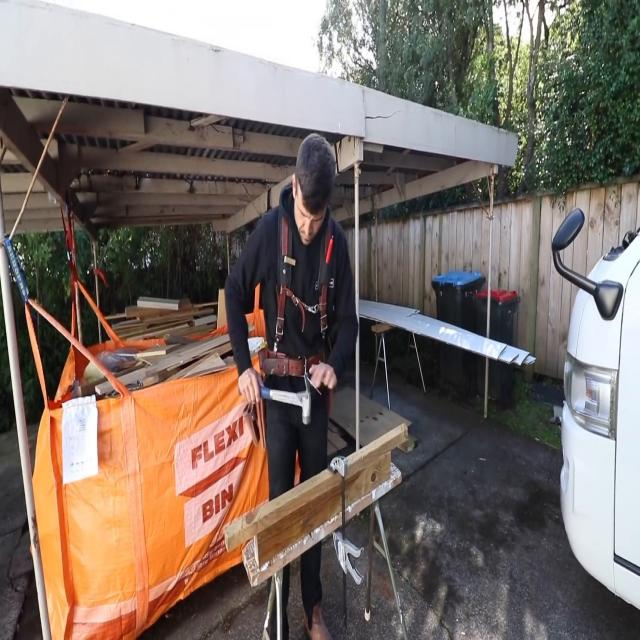hammer: (237, 372, 310, 424)
